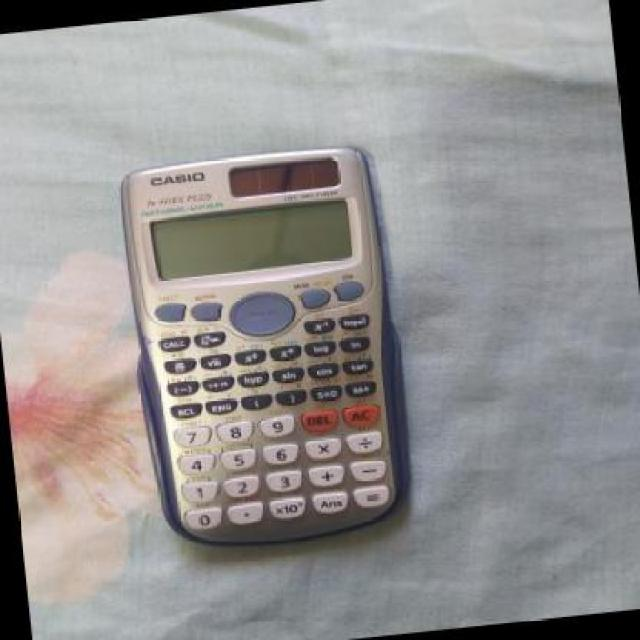Calculator: (101, 128, 422, 568)
